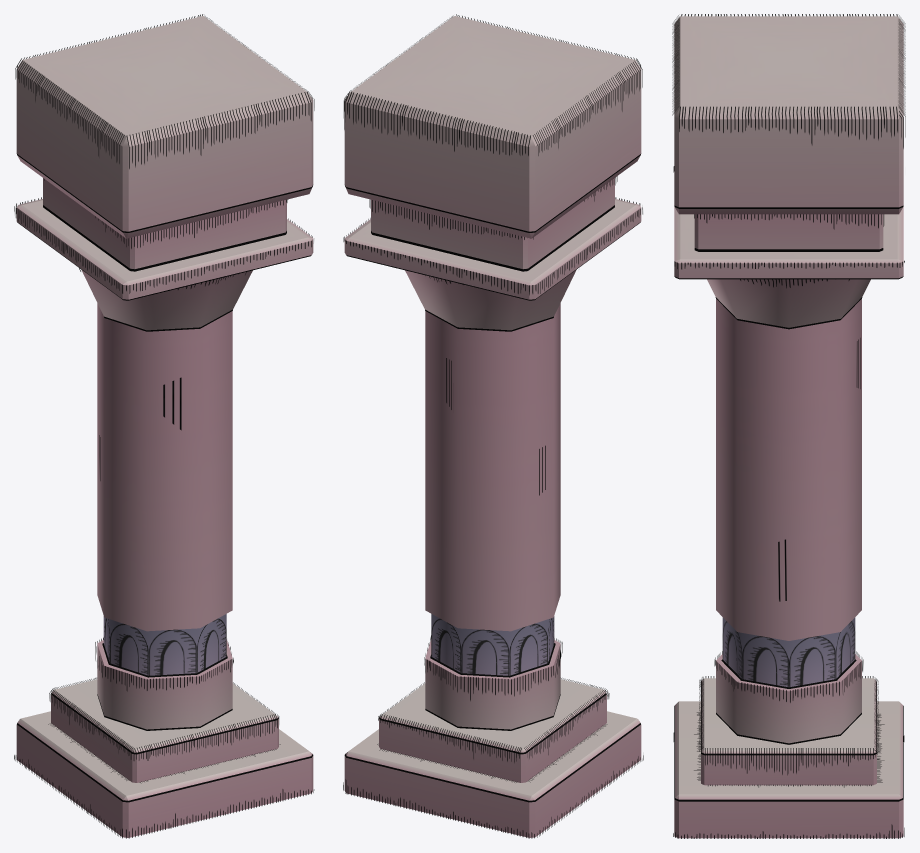
File: pipsColumn.cd8f72cf.glb
The picture shows the model from 3 angles, left to right: view 1: azimuth 30°, elevation 25°; view 2: azimuth 150°, elevation 25°; view 3: azimuth 270°, elevation 25°; orthographic projection. The views are drawn at different scales.
Parts seen in each view (by area): view 1: Column_Regular; view 2: Column_Regular; view 3: Column_Regular.
Part boxes in pixels (bbox=[...]): Column_Regular: bbox=[14, 14, 314, 838]; Column_Regular: bbox=[343, 14, 643, 838]; Column_Regular: bbox=[672, 14, 905, 838].
Bounding box in the file's own units: 1.02 × 3.51 × 1.02.
2 materials, 2 textured.
